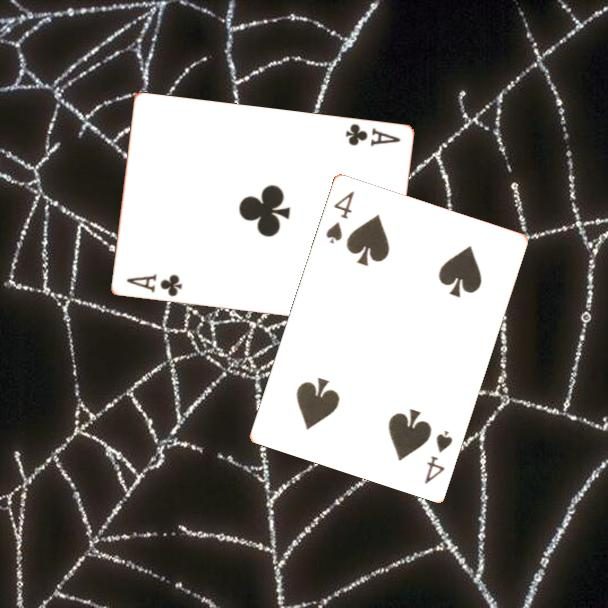c01: (341, 120, 403, 150), (123, 271, 185, 300)
s04: (322, 187, 357, 246), (420, 427, 455, 486)
